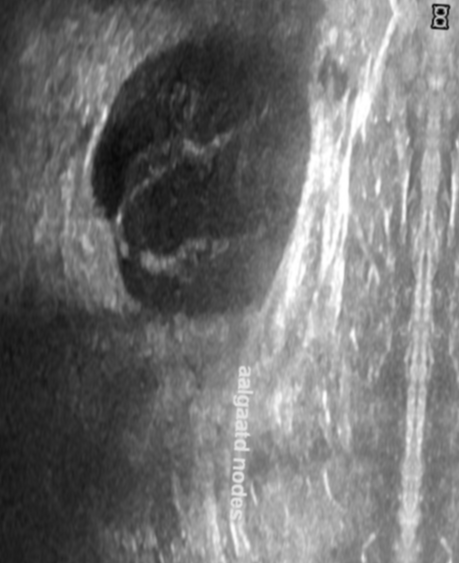Benign: (101, 48, 314, 308)
